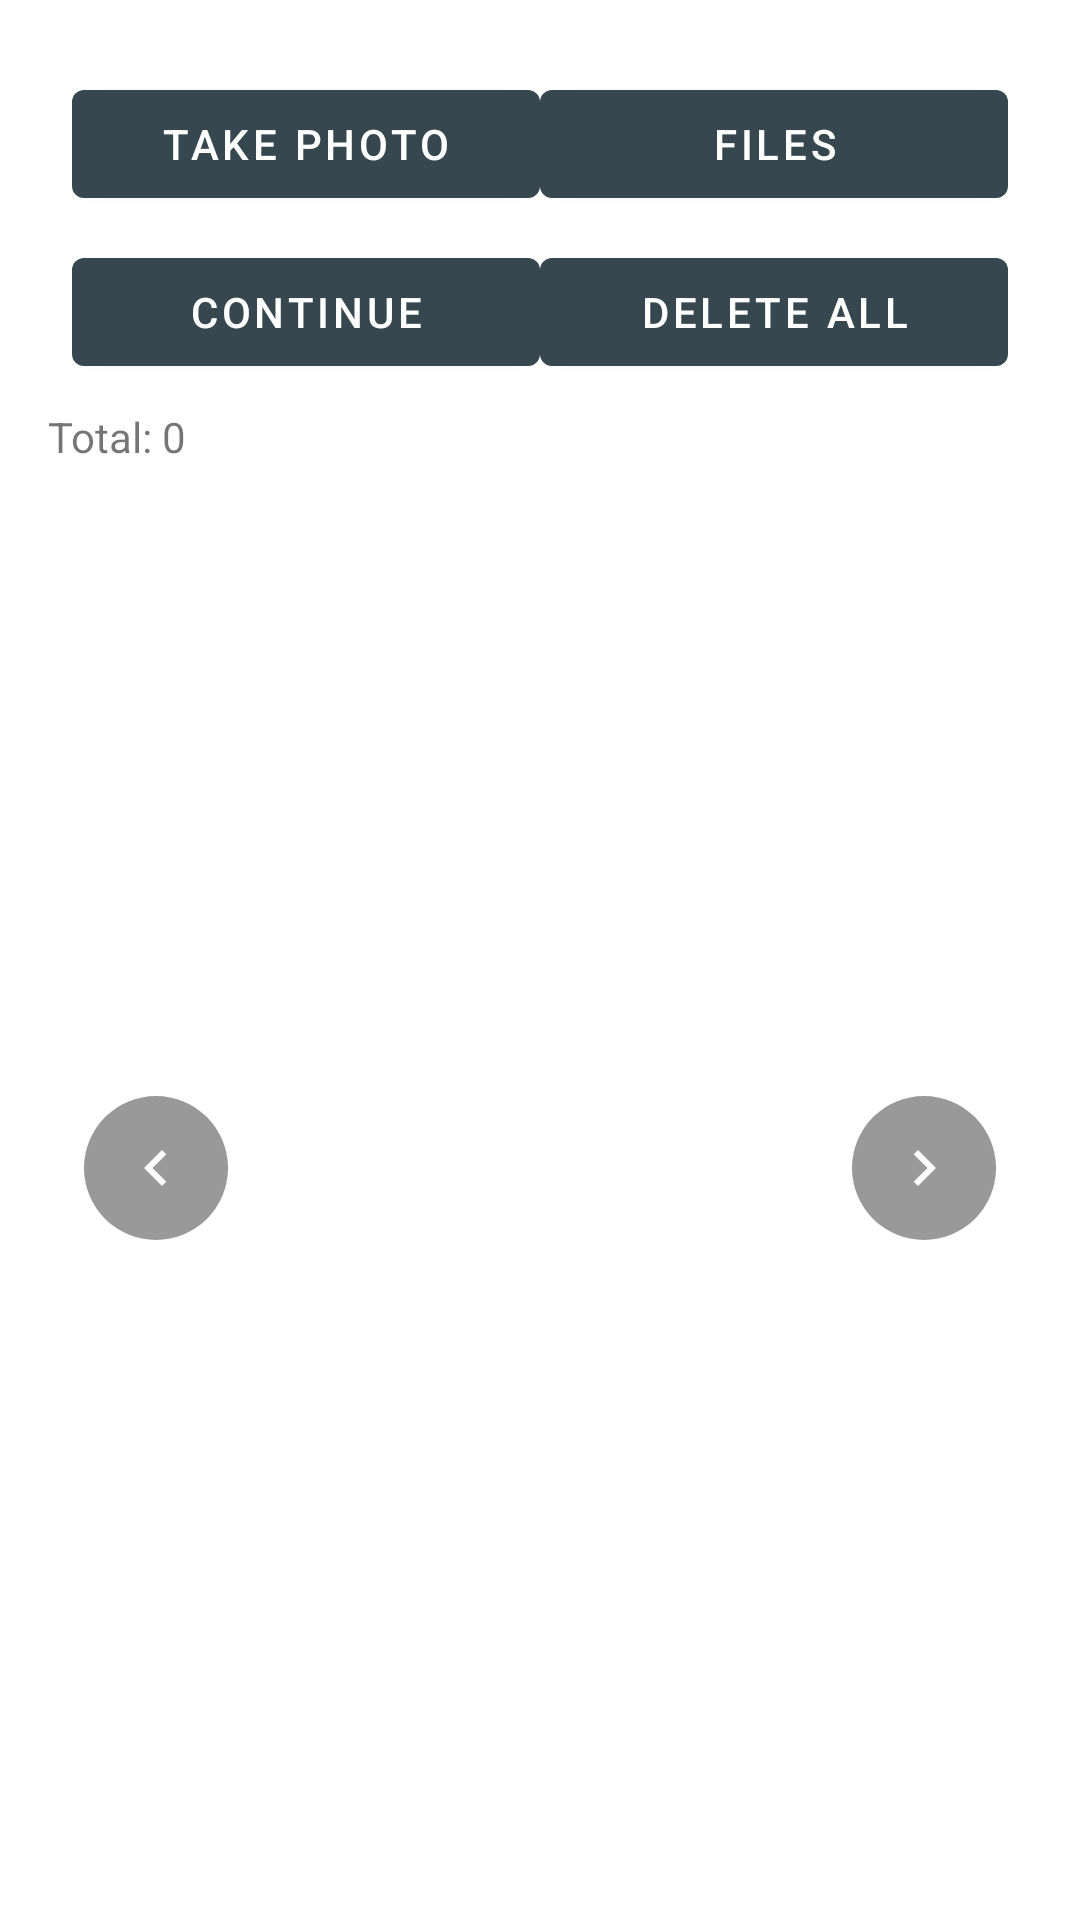

Icons on this 1080w x 1920h Android screen, each with the point to tap as (x=x, y=y):
Next: (x=924, y=1168)
Previous: (x=156, y=1168)
